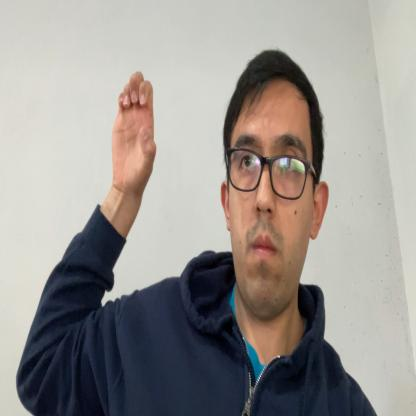E: (110, 70, 157, 201)
